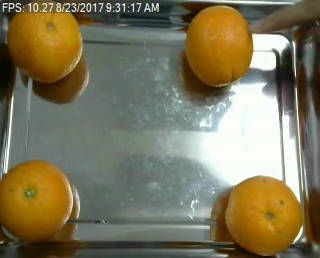Orange: (6, 1, 83, 85), (224, 174, 303, 254), (2, 160, 74, 242), (186, 4, 254, 87)
